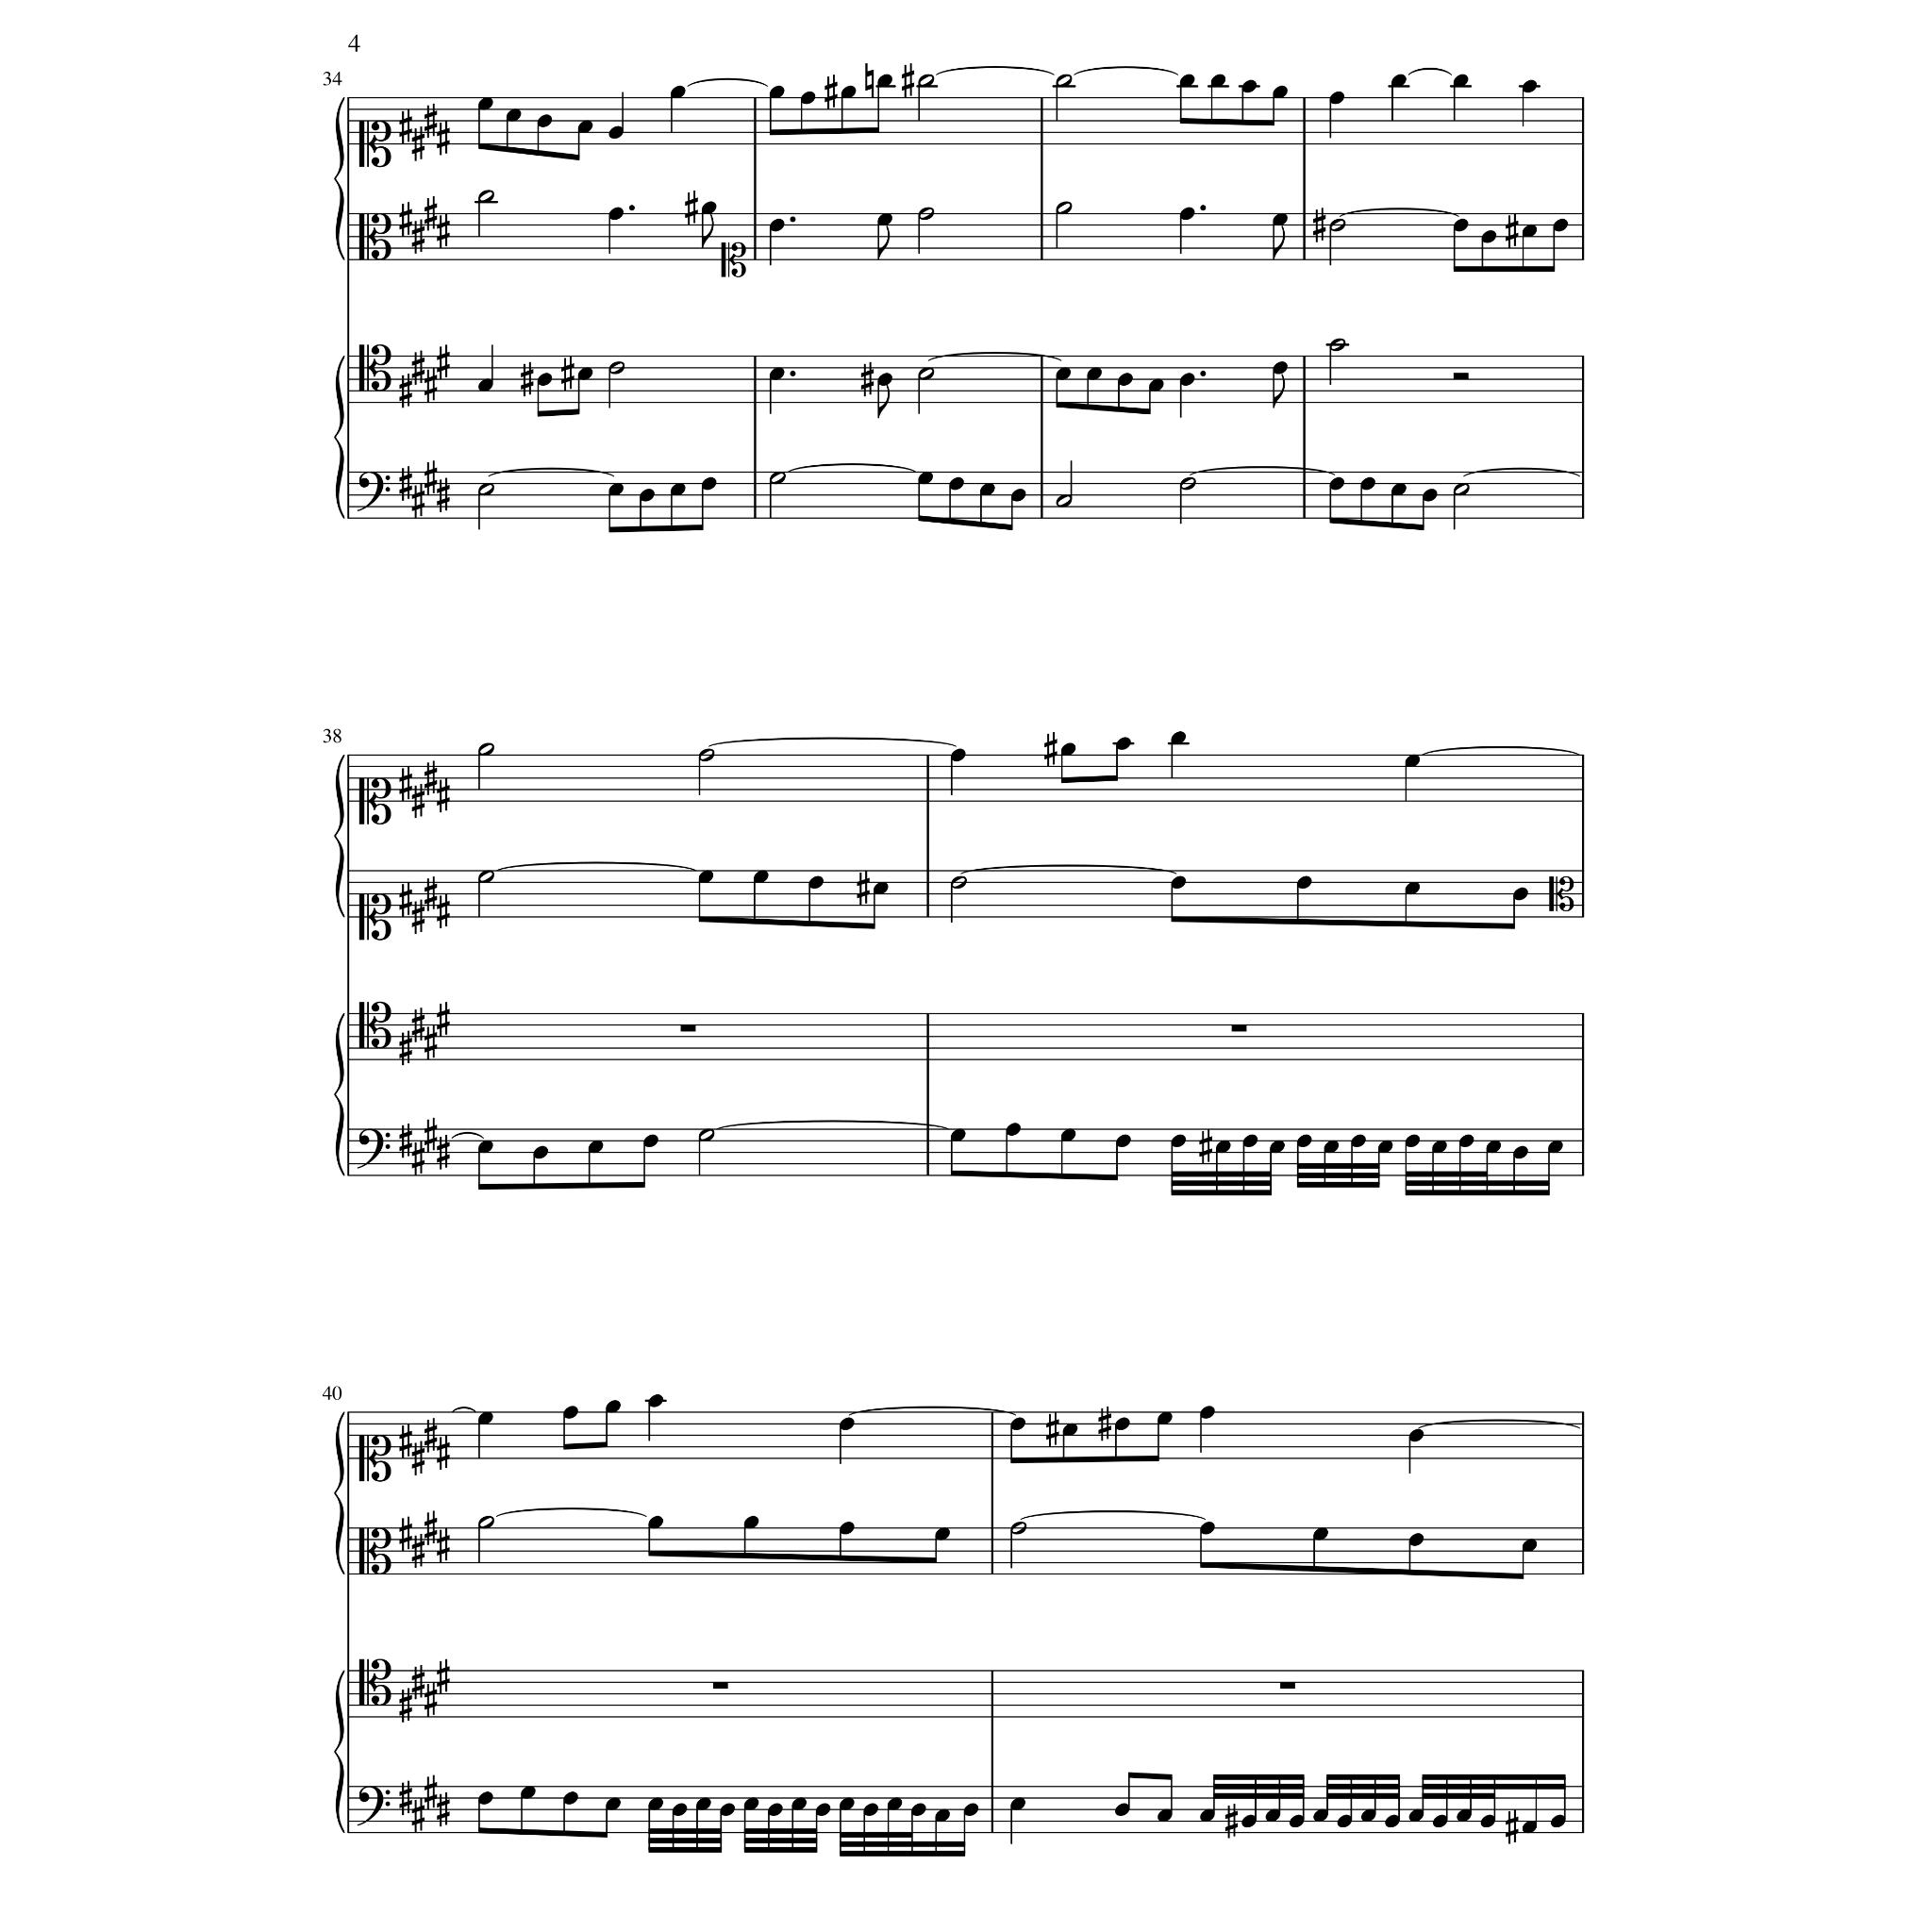brace: (333, 97, 344, 261), (333, 356, 344, 520), (333, 1012, 344, 1176), (333, 755, 344, 919), (333, 1670, 344, 1834), (333, 1411, 344, 1575)
fClef: (357, 1128, 391, 1170), (357, 1785, 391, 1826), (357, 472, 391, 511)
flag8thDown: (877, 385, 891, 419), (877, 226, 891, 260), (1274, 375, 1285, 408), (1274, 226, 1285, 260), (702, 214, 713, 248)
noteheadBlack: (1209, 74, 1226, 89), (1272, 360, 1289, 375), (1511, 887, 1528, 902), (1113, 1802, 1130, 1817), (647, 1515, 664, 1530), (862, 1802, 879, 1817), (962, 1802, 979, 1817), (719, 1802, 736, 1817), (1179, 74, 1194, 89), (1391, 74, 1406, 89), (1453, 74, 1468, 89), (877, 74, 892, 89), (672, 1802, 687, 1817), (911, 1802, 926, 1817), (767, 1802, 782, 1817), (743, 1515, 758, 1530), (815, 1802, 830, 1817), (1272, 213, 1289, 226), (1272, 86, 1289, 99), (1328, 477, 1345, 491), (1328, 92, 1345, 105), (1055, 367, 1072, 380), (1521, 80, 1538, 93), (1521, 225, 1538, 238), (608, 126, 625, 140), (608, 208, 625, 221), (608, 483, 625, 496), (700, 202, 717, 215), (536, 114, 553, 127), (536, 373, 553, 386), (477, 97, 494, 110), (477, 379, 494, 392), (700, 477, 717, 491), (840, 86, 857, 99), (917, 472, 934, 485), (768, 367, 785, 380), (768, 219, 785, 232), (768, 86, 785, 99), (1377, 1141, 1394, 1154), (1170, 1135, 1187, 1148), (1170, 876, 1187, 890), (1170, 731, 1187, 744), (1241, 1135, 1258, 1148), (1404, 1135, 1421, 1148), (1404, 882, 1421, 895), (1404, 755, 1421, 768), (1511, 1146, 1528, 1159), (1485, 1141, 1502, 1154), (587, 1141, 604, 1154), (532, 1146, 549, 1159), (477, 1141, 494, 1154), (949, 1128, 966, 1141), (949, 749, 966, 762), (1264, 1808, 1281, 1822), (1157, 1808, 1174, 1822), (1157, 1411, 1174, 1424), (1113, 1417, 1130, 1430), (1521, 1821, 1538, 1834), (1521, 1539, 1538, 1552), (1407, 1808, 1424, 1822), (1407, 1533, 1424, 1546), (1407, 1429, 1424, 1442), (1336, 1814, 1353, 1827), (1479, 1814, 1496, 1827), (562, 1791, 579, 1805), (562, 1406, 579, 1419), (694, 1797, 711, 1810), (647, 1797, 664, 1810), (647, 1394, 664, 1407), (477, 1791, 494, 1805), (477, 1411, 494, 1424), (934, 1808, 951, 1822), (934, 1527, 951, 1541), (791, 1797, 808, 1810), (1241, 80, 1257, 93), (1179, 373, 1194, 386), (1149, 379, 1164, 392), (1179, 208, 1194, 221), (1087, 367, 1102, 380), (1117, 373, 1132, 386), (1553, 219, 1568, 232), (1481, 230, 1496, 243), (1360, 477, 1375, 491), (1391, 483, 1406, 496), (1423, 489, 1438, 502), (1453, 219, 1468, 232), (577, 121, 592, 134), (577, 367, 592, 380), (640, 489, 655, 502), (670, 86, 685, 99), (670, 483, 685, 496), (506, 109, 521, 123), (949, 477, 964, 491), (877, 373, 892, 386), (877, 213, 892, 226), (800, 92, 815, 105), (1010, 489, 1025, 502), (979, 483, 994, 496), (1296, 1135, 1311, 1148), (1296, 876, 1311, 890), (1270, 1141, 1285, 1154), (1351, 1135, 1366, 1148), (1324, 1141, 1339, 1154), (1115, 738, 1130, 751), (1115, 1135, 1130, 1148), (1215, 1141, 1230, 1154), (1548, 1141, 1563, 1154), (1432, 1141, 1447, 1154), (1458, 1135, 1474, 1148), (698, 870, 713, 883), (643, 1135, 658, 1148), (1060, 1128, 1075, 1141), (1060, 743, 1075, 757), (1006, 1123, 1021, 1136), (808, 876, 824, 890), (874, 882, 889, 895), (753, 870, 768, 883), (1200, 1406, 1215, 1419), (1200, 1522, 1215, 1535), (1200, 1808, 1215, 1822), (1313, 1808, 1328, 1822), (1313, 1527, 1328, 1541), (1289, 1814, 1304, 1827), (1241, 1814, 1257, 1827), (1062, 1424, 1077, 1437), (1551, 1814, 1566, 1827), (1385, 1814, 1400, 1827), (1360, 1808, 1375, 1822), (1457, 1808, 1472, 1822), (1432, 1814, 1447, 1827), (606, 1797, 621, 1810), (606, 1400, 621, 1413), (521, 1786, 536, 1799), (887, 1797, 902, 1810), (840, 1797, 855, 1810), (840, 1522, 855, 1535), (840, 1417, 855, 1430), (1010, 1797, 1025, 1810), (1010, 1417, 1025, 1430), (743, 1797, 758, 1810)
noteheadHalf: (1056, 74, 1073, 89), (917, 74, 934, 89), (477, 1515, 494, 1530), (1329, 339, 1346, 352), (1329, 219, 1346, 232), (1056, 202, 1073, 215), (1056, 494, 1073, 508), (1179, 477, 1196, 491), (1453, 483, 1470, 496), (608, 362, 625, 375), (477, 191, 494, 204), (477, 483, 494, 496), (917, 367, 934, 380), (917, 208, 934, 221), (769, 472, 786, 485), (477, 870, 494, 883), (698, 749, 715, 762), (698, 1128, 715, 1141), (477, 743, 494, 757), (950, 876, 967, 890), (1010, 1522, 1027, 1535)
restHalf: (1453, 373, 1470, 380)
restWhole: (1230, 1024, 1247, 1032), (679, 1024, 696, 1032), (711, 1682, 728, 1690), (1279, 1682, 1294, 1690)
